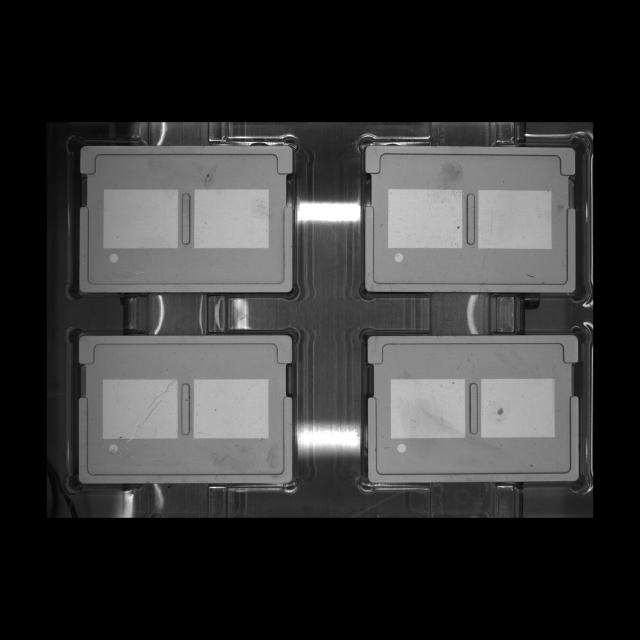product: (67, 134, 306, 304), (356, 132, 589, 305), (67, 325, 300, 494), (358, 326, 590, 493)
